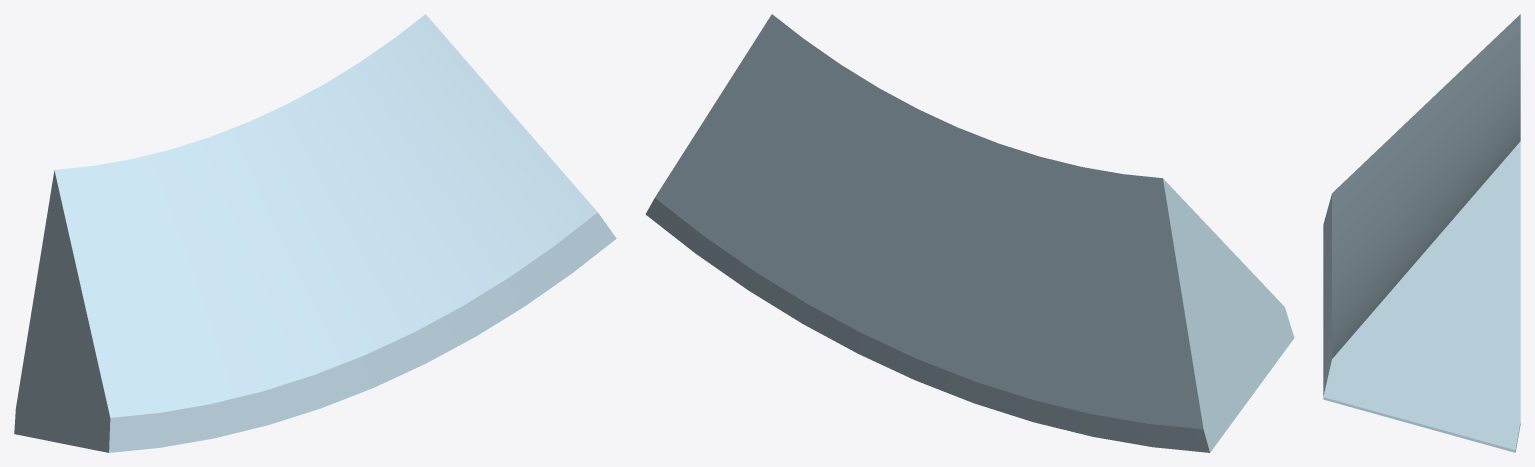
The model's file is Sub_8_Cell_3_1.gltf.
The picture shows the model from 3 angles, left to right: view 1: azimuth 30°, elevation 25°; view 2: azimuth 150°, elevation 25°; view 3: azimuth 270°, elevation 25°; orthographic projection. The views are drawn at different scales.
Visible parts, largest first — view 1: Sub_8_Cell_3_1; view 2: Sub_8_Cell_3_1; view 3: Sub_8_Cell_3_1.
Part boxes in pixels (x1,y1,x2,y2): Sub_8_Cell_3_1: [14, 14, 616, 452]; Sub_8_Cell_3_1: [645, 14, 1294, 452]; Sub_8_Cell_3_1: [1323, 14, 1520, 452].
Size of the model in its own units: 0.1246 by 0.0732 by 0.0362.
